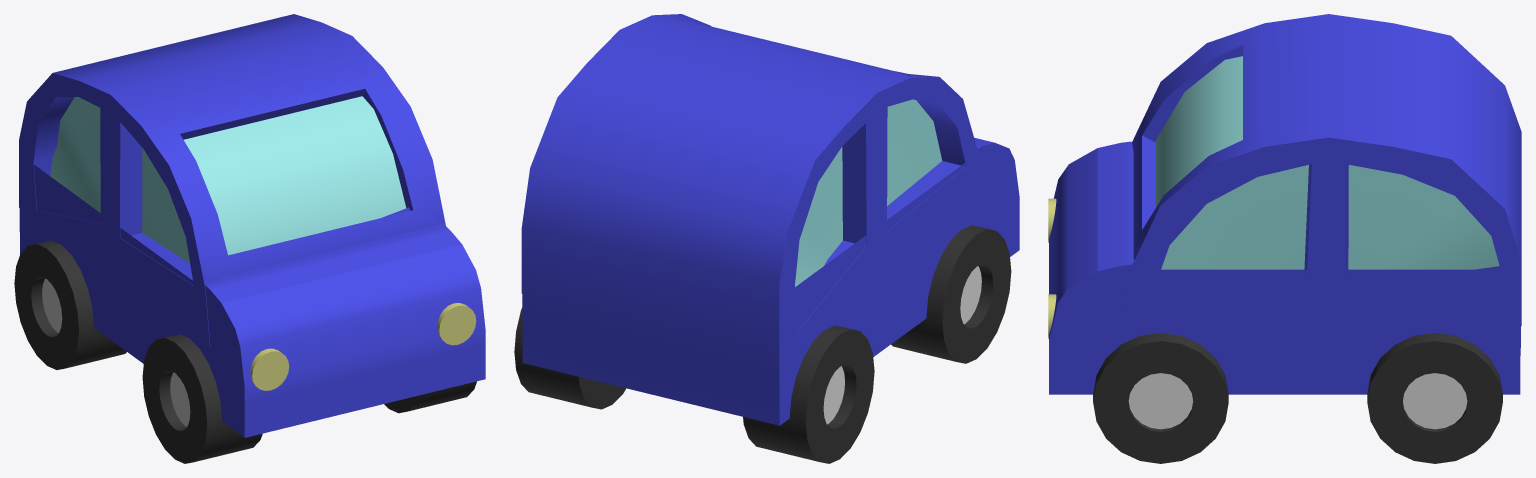
Rendered from Car2.fbx.
3 views of the same model, side by side, from view 1: azimuth 30°, elevation 25°; view 2: azimuth 150°, elevation 25°; view 3: azimuth 270°, elevation 25° (orthographic). The views are drawn at different scales.
Parts seen in each view (by area): view 1: pCube3; view 2: pCube3; view 3: pCube3.
Boxes of the visible parts, bbox=[...] form: pCube3: bbox=[14, 14, 485, 463]; pCube3: bbox=[514, 14, 1019, 463]; pCube3: bbox=[1048, 14, 1521, 463].
Bounding box in the file's own units: 158 × 169 × 228.
